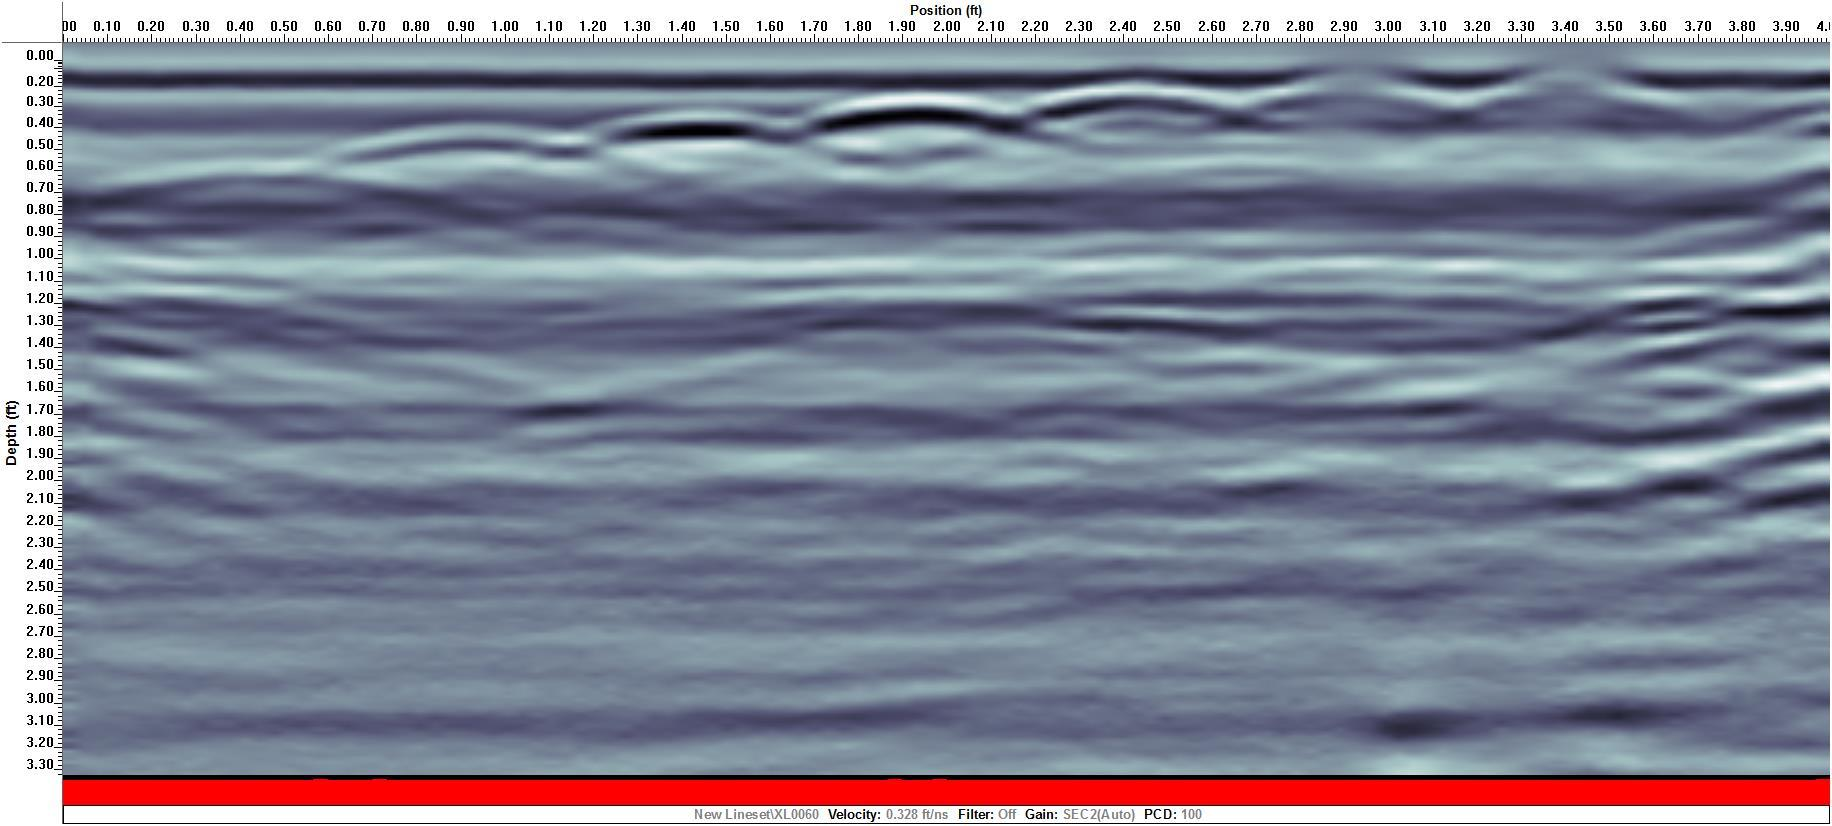hyperbola: (75, 154, 462, 237), (300, 112, 643, 196), (780, 89, 1074, 168), (983, 74, 1284, 145), (551, 102, 828, 173)
